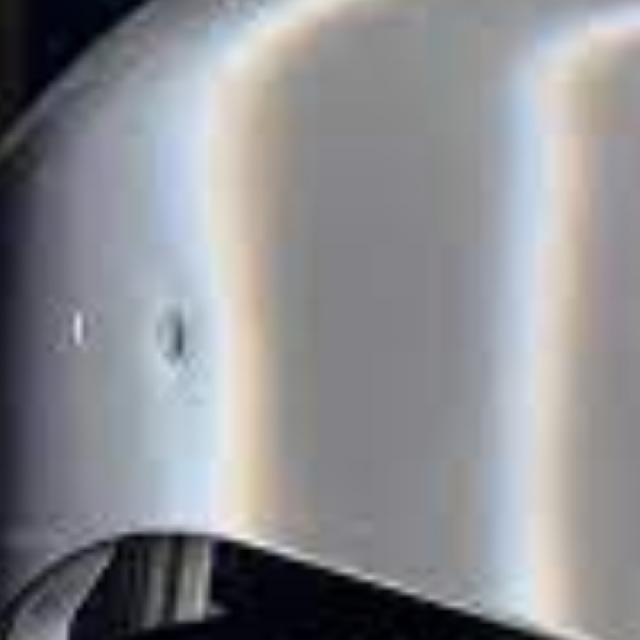dents: (132, 289, 235, 401)
